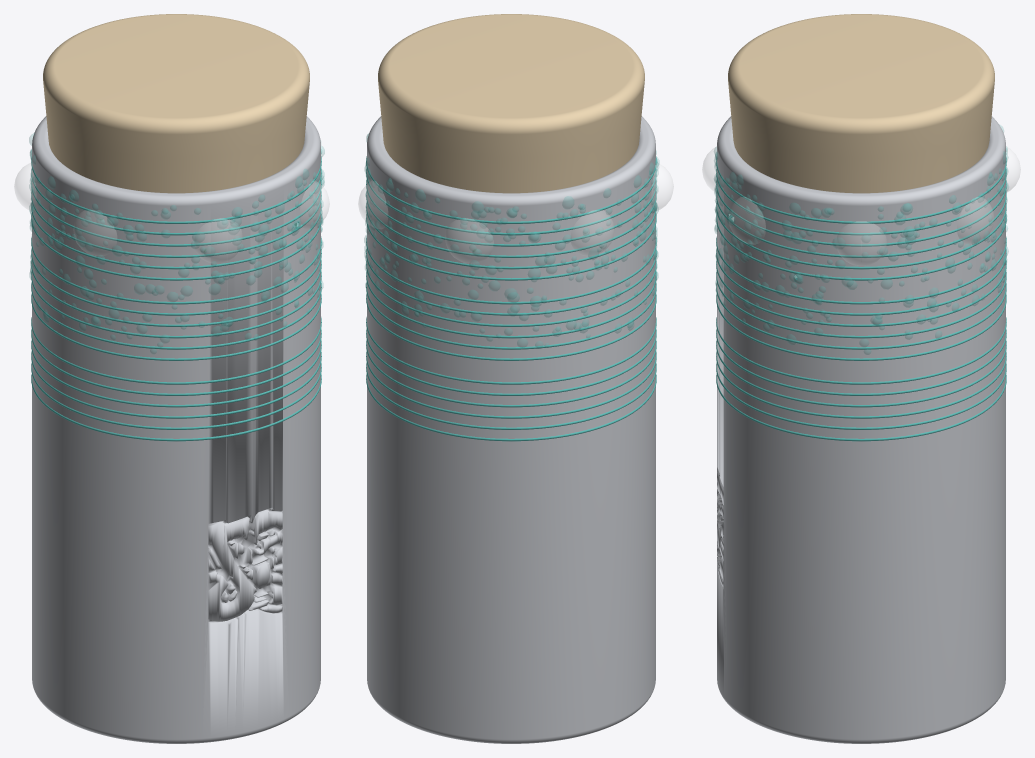
Rendered from jar_clear_silver.glb.
3 views of the same model, side by side, from view 1: azimuth 30°, elevation 25°; view 2: azimuth 150°, elevation 25°; view 3: azimuth 270°, elevation 25° (orthographic).
Parts seen in each view (by area): view 1: body, cork, lines, frit, marbles; view 2: body, cork, lines, frit, marbles; view 3: body, cork, lines, frit, marbles.
Boxes of the visible parts, x1,y1,x2,y2 form: body: (32, 116, 320, 743); cork: (43, 14, 309, 251); lines: (31, 156, 321, 441); frit: (29, 133, 324, 353); marbles: (14, 163, 329, 263); body: (367, 116, 655, 743); cork: (378, 14, 644, 251); lines: (366, 156, 656, 441); frit: (364, 133, 659, 348); marbles: (358, 163, 673, 263); body: (717, 116, 1005, 743); cork: (728, 14, 994, 193); lines: (716, 156, 1006, 441); frit: (714, 125, 1008, 354); marbles: (702, 147, 1020, 265).
Bounding box in the file's own units: 0.0475 × 0.104 × 0.0486.
